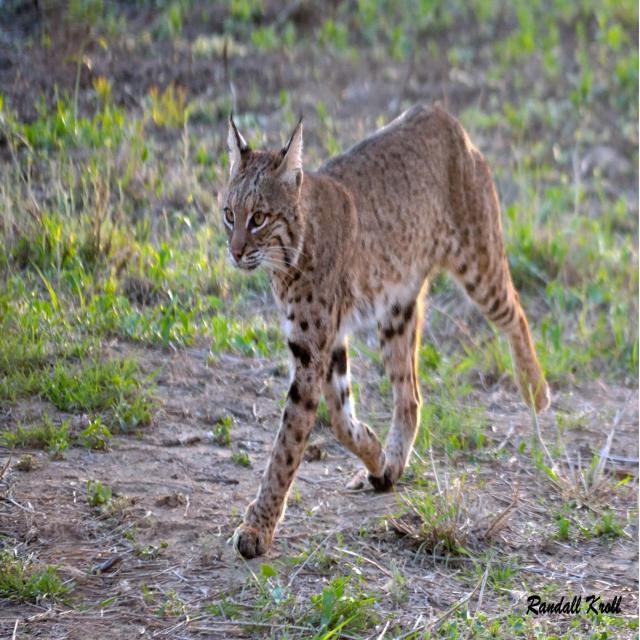cat: (222, 105, 550, 558)
